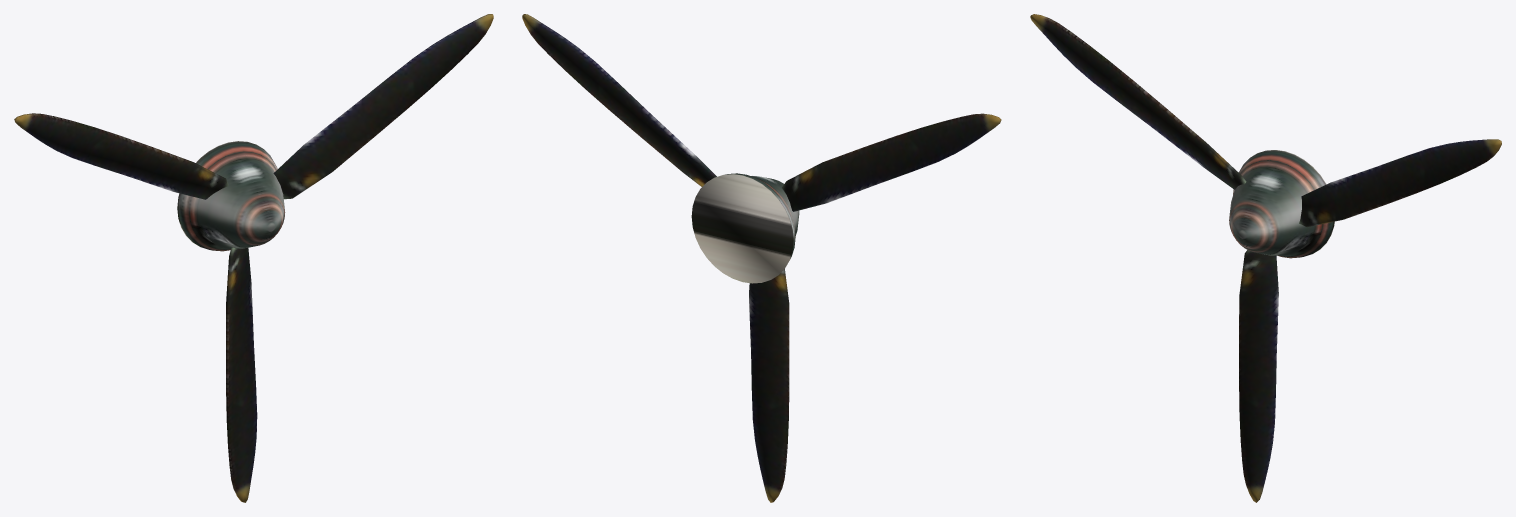
File: propeller.obj
3 views of the same model, side by side, from view 1: azimuth 30°, elevation 25°; view 2: azimuth 150°, elevation 25°; view 3: azimuth 330°, elevation 25° (orthographic).
Visible parts, largest first — view 1: Cylinder; view 2: Cylinder; view 3: Cylinder.
Boxes of the visible parts, x1,y1,x2,y2 form: Cylinder: [14, 14, 493, 502]; Cylinder: [522, 14, 1001, 502]; Cylinder: [1030, 14, 1501, 502].
Size of the model in its own units: 2.32 by 2.05 by 0.3671.
Materials: 2 (2 with a texture image).
